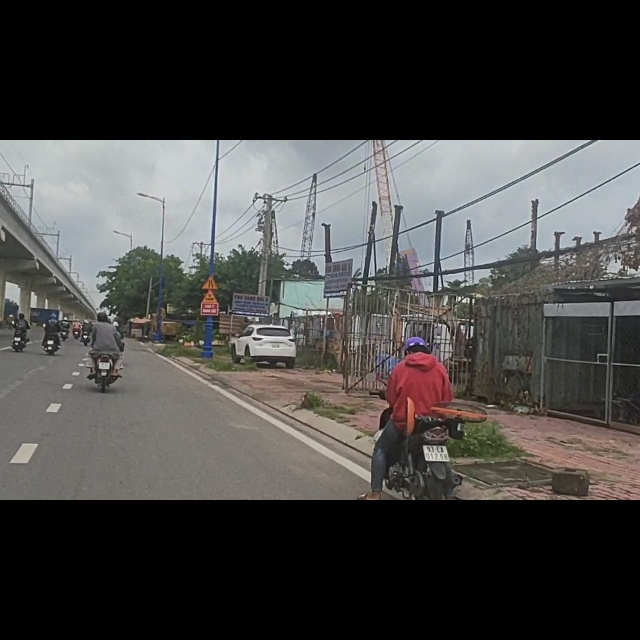bien_nguy_hiem: (201, 239, 220, 267), (201, 267, 219, 290)
